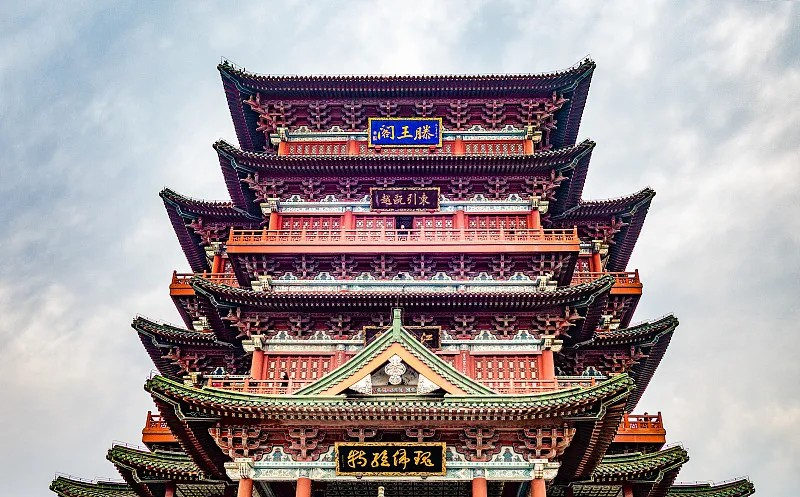Teng: (50, 58, 754, 497)
